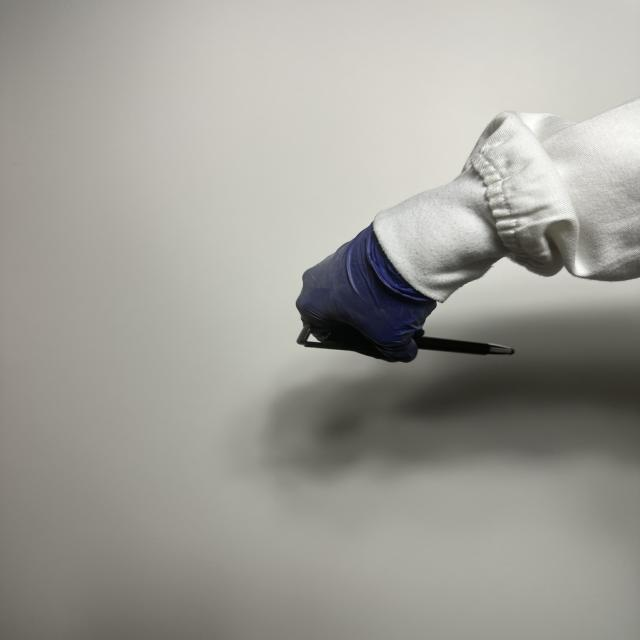gloves_contaminated: (296, 224, 436, 362)
